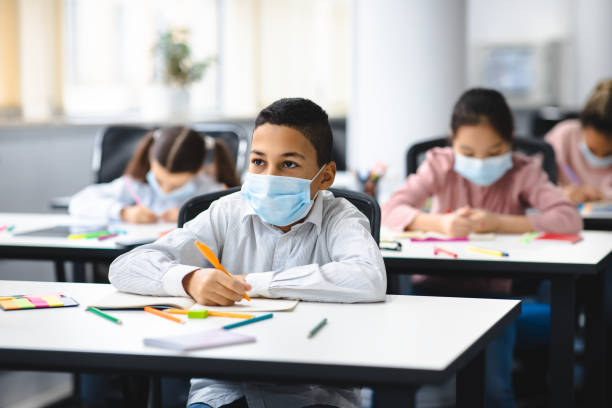with mask: (233, 106, 331, 220), (432, 108, 523, 188), (575, 99, 612, 176)
